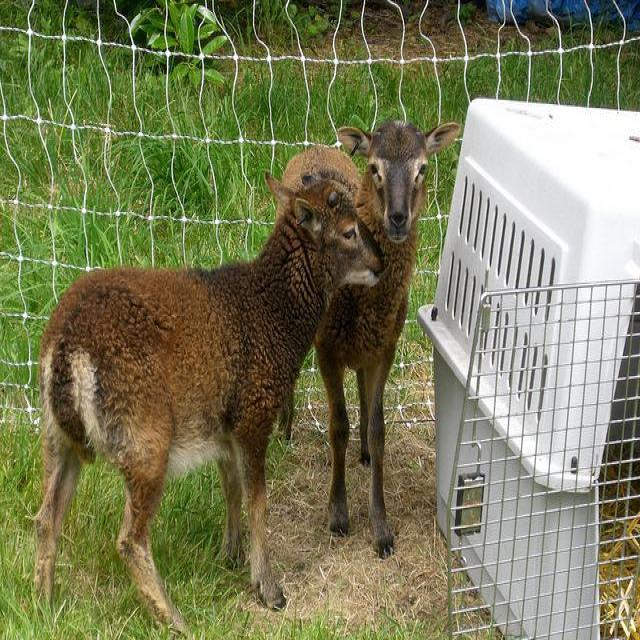Sheep: (32, 173, 387, 628), (282, 118, 465, 558)
